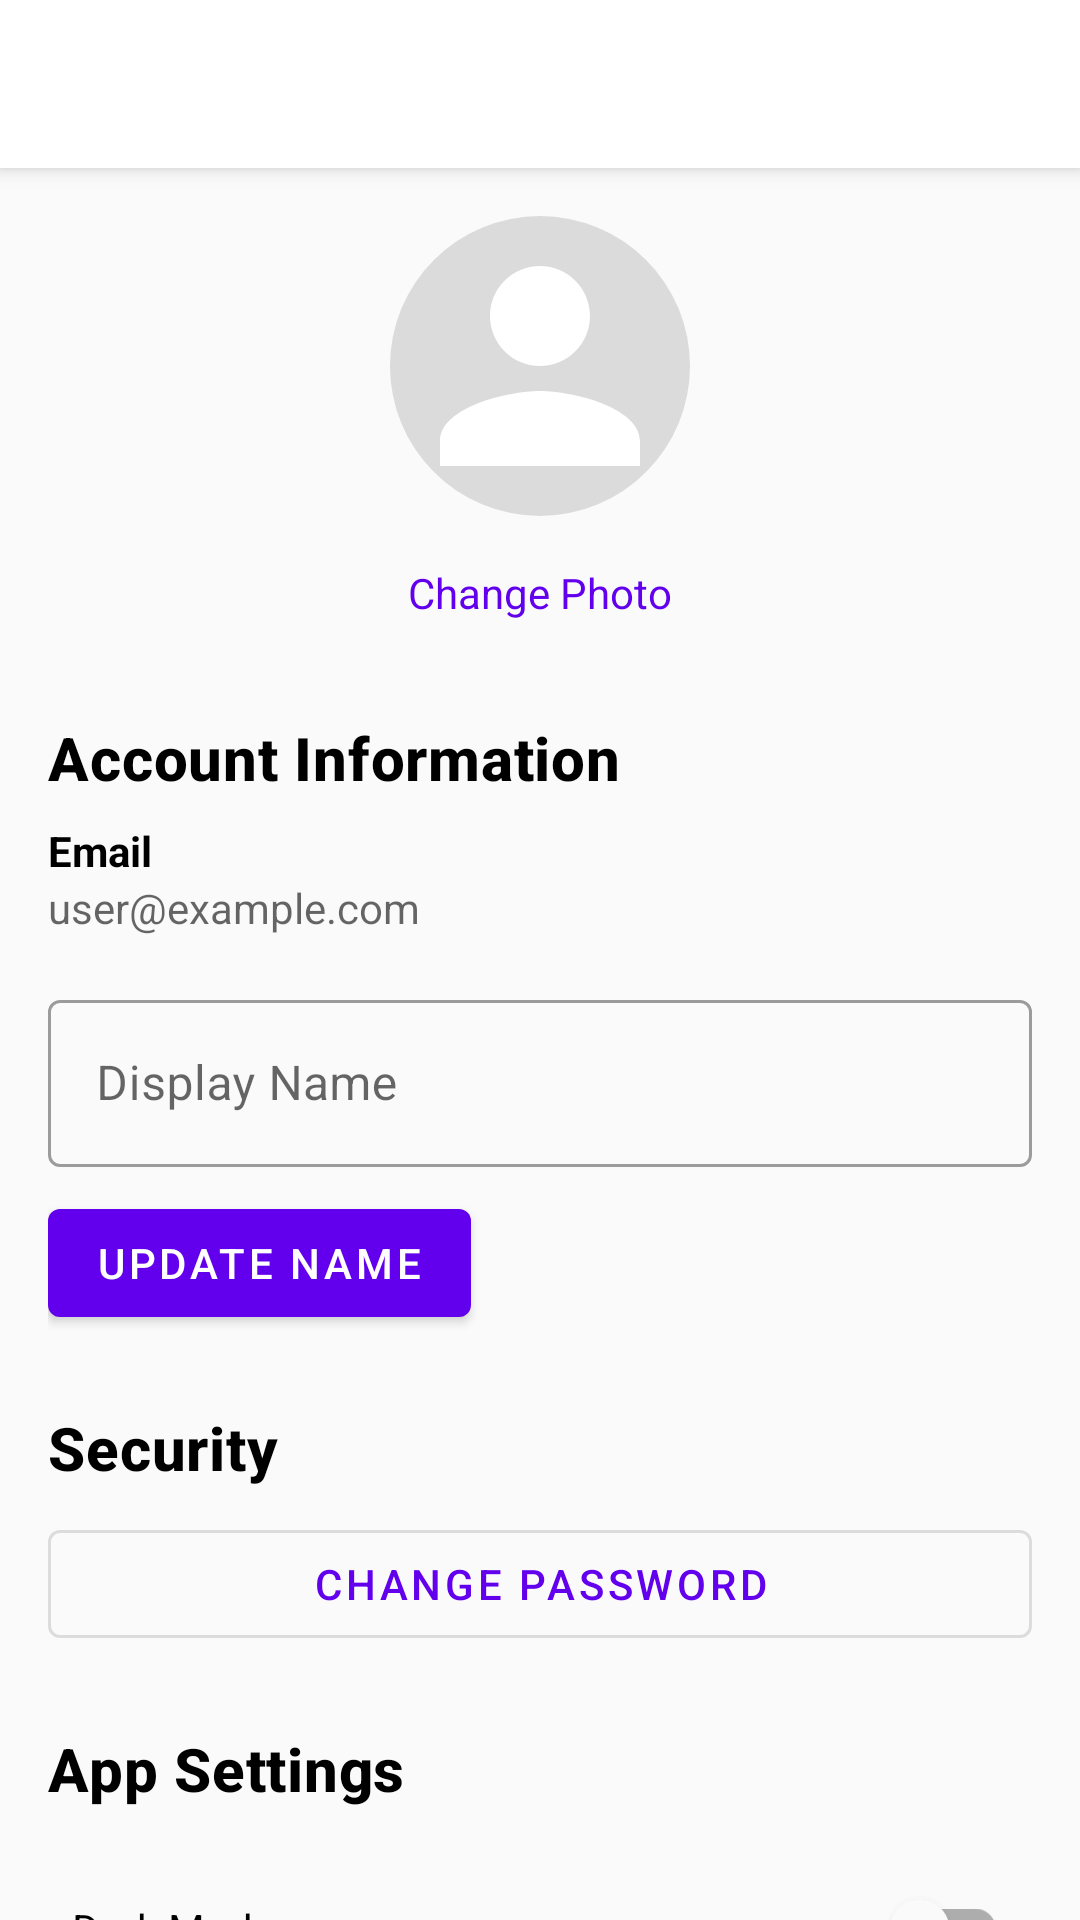

Screen size 1080x1920. Icon name, then its center in pixels as [x,y]:
person: [540,366]
